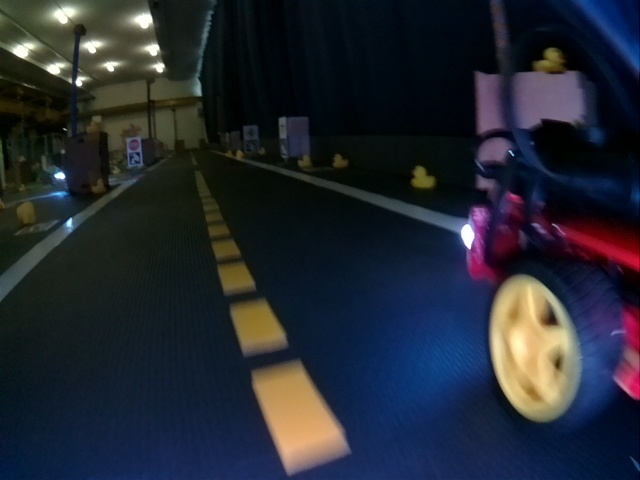Duckie: (535, 47, 563, 72), (411, 165, 434, 188), (19, 205, 37, 223), (332, 155, 345, 168), (298, 155, 311, 167), (92, 179, 104, 192), (88, 121, 99, 131), (225, 150, 234, 159), (235, 150, 243, 159), (259, 148, 266, 154)
Duckiebot: (465, 115, 638, 432)
QR code: (128, 152, 141, 165), (280, 138, 288, 157)
Stop sign: (127, 138, 141, 151)
